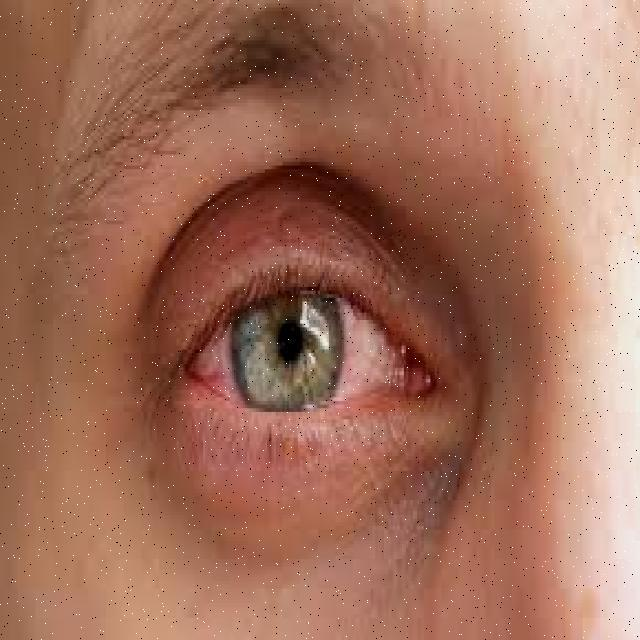Conjunctivitis: (181, 302, 434, 406)
